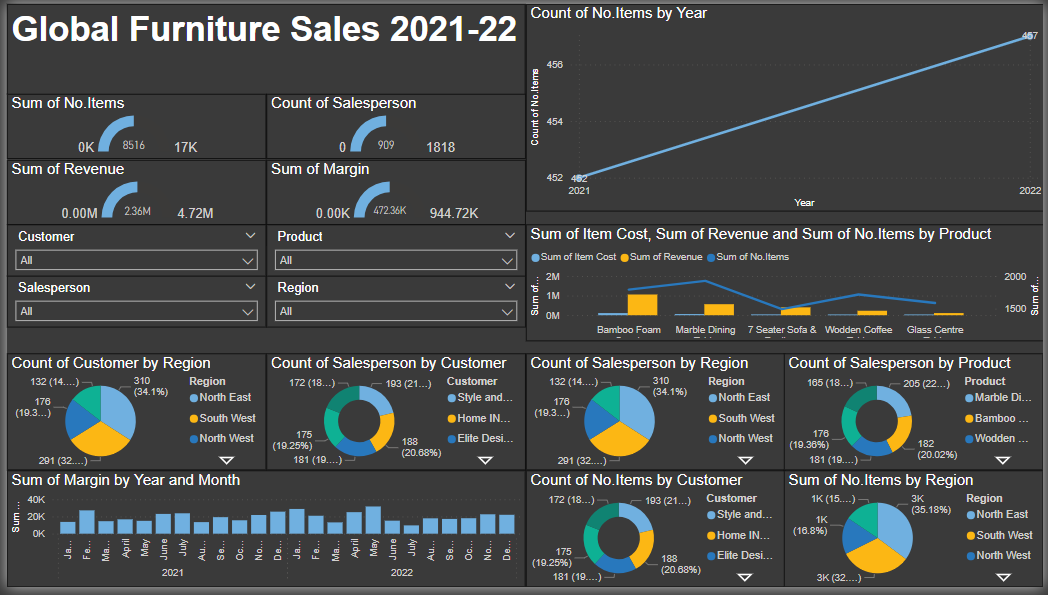

The page's visual inventory and layout, read from the dashboard file:
{"tool":"powerbi","page":{"name":"Page 1","canvas":[1280,720],"ordinal":0},"visuals":[{"type":"textbox","box":[0,0,640,112],"z":0},{"type":"clusteredColumnChart","fields":{"Y":["Sum(Raw_Data.Margin)"],"Category":["Raw_Data.Date.Variation.Date Hierarchy.Year","Raw_Data.Date.Variation.Date Hierarchy.Month"]},"box":[0,576,640,144],"z":1},{"type":"donutChart","fields":{"Category":["Raw_Data.Customer"],"Y":["CountNonNull(Raw_Data.No.Items)"]},"box":[640,576,320,144],"z":2},{"type":"pieChart","fields":{"Category":["Raw_Data.Region"],"Y":["Sum(Raw_Data.No.Items)"]},"box":[960,576,320,144],"z":3},{"type":"pieChart","fields":{"Category":["Raw_Data.Region"],"Y":["CountNonNull(Raw_Data.Customer)"]},"box":[0,432,320,144],"z":4},{"type":"donutChart","fields":{"Category":["Raw_Data.Customer"],"Y":["CountNonNull(Raw_Data.Salesperson)"]},"box":[320,432,320,144],"z":5},{"type":"pieChart","fields":{"Category":["Raw_Data.Region"],"Y":["CountNonNull(Raw_Data.Salesperson)"]},"box":[640,432,320,144],"z":6},{"type":"donutChart","fields":{"Category":["Raw_Data.Product"],"Y":["CountNonNull(Raw_Data.Salesperson)"]},"box":[960,432,320,144],"z":7},{"type":"lineClusteredColumnComboChart","fields":{"Category":["Raw_Data.Product"],"Y":["Sum(Raw_Data.Item Cost)","Sum(Raw_Data.Revenue)"],"Y2":["Sum(Raw_Data.No.Items)"]},"box":[640,272,640,144],"z":8},{"type":"slicer","fields":{"Values":["Raw_Data.Salesperson"]},"box":[0,336,320,64],"z":9},{"type":"slicer","fields":{"Values":["Raw_Data.Region"]},"box":[320,336,320,64],"z":10},{"type":"slicer","fields":{"Values":["Raw_Data.Customer"]},"box":[0,272,320,64],"z":11},{"type":"slicer","fields":{"Values":["Raw_Data.Product"]},"box":[320,272,320,64],"z":12},{"type":"lineChart","fields":{"Category":["Raw_Data.Date.Variation.Date Hierarchy.Year","Raw_Data.Date.Variation.Date Hierarchy.Month"],"Y":["CountNonNull(Raw_Data.No.Items)"]},"box":[640,0,640,256],"z":13},{"type":"gauge","fields":{"Y":["Sum(Raw_Data.Revenue)"]},"box":[0,192,320,80],"z":14},{"type":"gauge","fields":{"Y":["Sum(Raw_Data.Margin)"]},"box":[320,192,320,80],"z":15},{"type":"gauge","fields":{"Y":["Sum(Raw_Data.No.Items)"]},"box":[0,112,320,80],"z":16},{"type":"gauge","fields":{"Y":["CountNonNull(Raw_Data.Salesperson)"]},"box":[320,112,320,80],"z":17}]}

Visuals, with their boxes in screenshot pixels (x1, y1, x2, y2), scaled from the page's 1280x720 canvas onto the 1048x595 screenshot:
textbox: [left=0, top=0, right=524, bottom=93]
clusteredColumnChart - Sum(Raw_Data.Margin) x Raw_Data.Date.Variation.Date Hierarchy.Year: [left=0, top=476, right=524, bottom=594]
donutChart - Raw_Data.Customer x CountNonNull(Raw_Data.No.Items): [left=524, top=476, right=786, bottom=594]
pieChart - Raw_Data.Region x Sum(Raw_Data.No.Items): [left=786, top=476, right=1047, bottom=594]
pieChart - Raw_Data.Region x CountNonNull(Raw_Data.Customer): [left=0, top=357, right=262, bottom=476]
donutChart - Raw_Data.Customer x CountNonNull(Raw_Data.Salesperson): [left=262, top=357, right=524, bottom=476]
pieChart - Raw_Data.Region x CountNonNull(Raw_Data.Salesperson): [left=524, top=357, right=786, bottom=476]
donutChart - Raw_Data.Product x CountNonNull(Raw_Data.Salesperson): [left=786, top=357, right=1047, bottom=476]
lineClusteredColumnComboChart - Raw_Data.Product x Sum(Raw_Data.Item Cost): [left=524, top=225, right=1047, bottom=344]
slicer - Raw_Data.Salesperson: [left=0, top=278, right=262, bottom=331]
slicer - Raw_Data.Region: [left=262, top=278, right=524, bottom=331]
slicer - Raw_Data.Customer: [left=0, top=225, right=262, bottom=278]
slicer - Raw_Data.Product: [left=262, top=225, right=524, bottom=278]
lineChart - Raw_Data.Date.Variation.Date Hierarchy.Year x Raw_Data.Date.Variation.Date Hierarchy.Month: [left=524, top=0, right=1047, bottom=212]
gauge - Sum(Raw_Data.Revenue): [left=0, top=159, right=262, bottom=225]
gauge - Sum(Raw_Data.Margin): [left=262, top=159, right=524, bottom=225]
gauge - Sum(Raw_Data.No.Items): [left=0, top=93, right=262, bottom=159]
gauge - CountNonNull(Raw_Data.Salesperson): [left=262, top=93, right=524, bottom=159]
